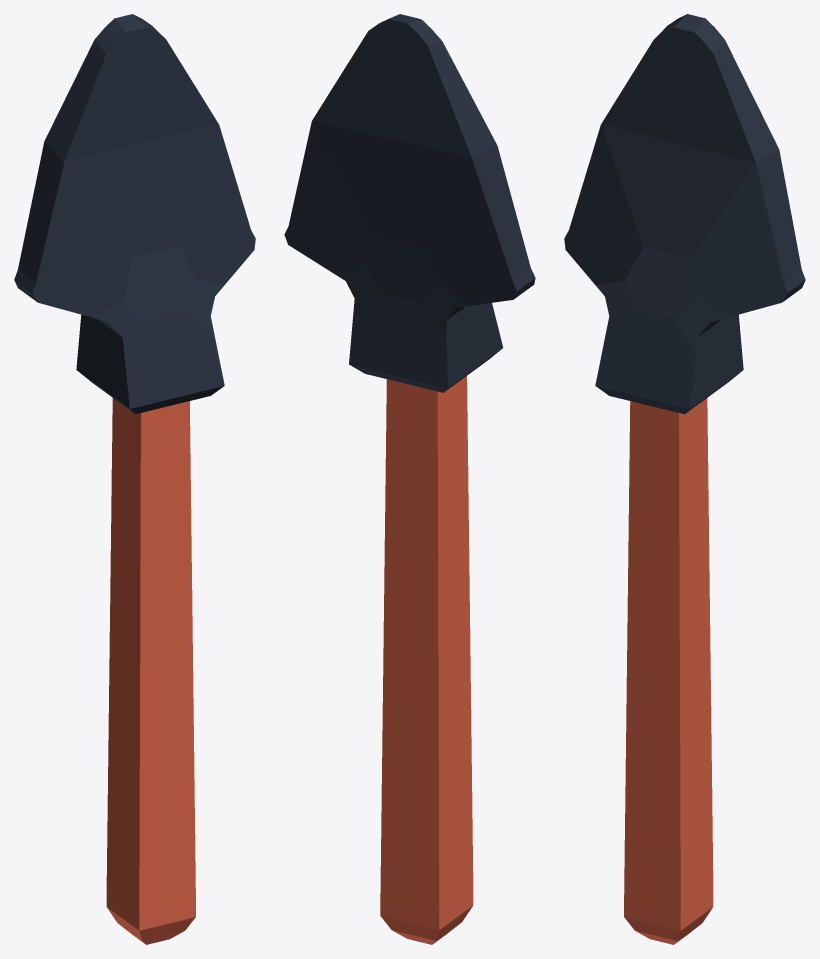
The model's file is tool_gardening_shovel.obj.
3 renders of one model, left to right at view 1: azimuth 30°, elevation 25°; view 2: azimuth 150°, elevation 25°; view 3: azimuth 330°, elevation 25°, orthographic. The views are drawn at different scales.
Visible parts, largest first — view 1: Cube.004_Cube.032; view 2: Cube.004_Cube.032; view 3: Cube.004_Cube.032.
Part boxes in pixels (left/top/right/bottom): Cube.004_Cube.032: left=14, top=14, right=255, bottom=944; Cube.004_Cube.032: left=284, top=14, right=535, bottom=944; Cube.004_Cube.032: left=564, top=14, right=805, bottom=944.
Bounding box in the file's own units: 0.6946 × 2.67 × 0.3111.
